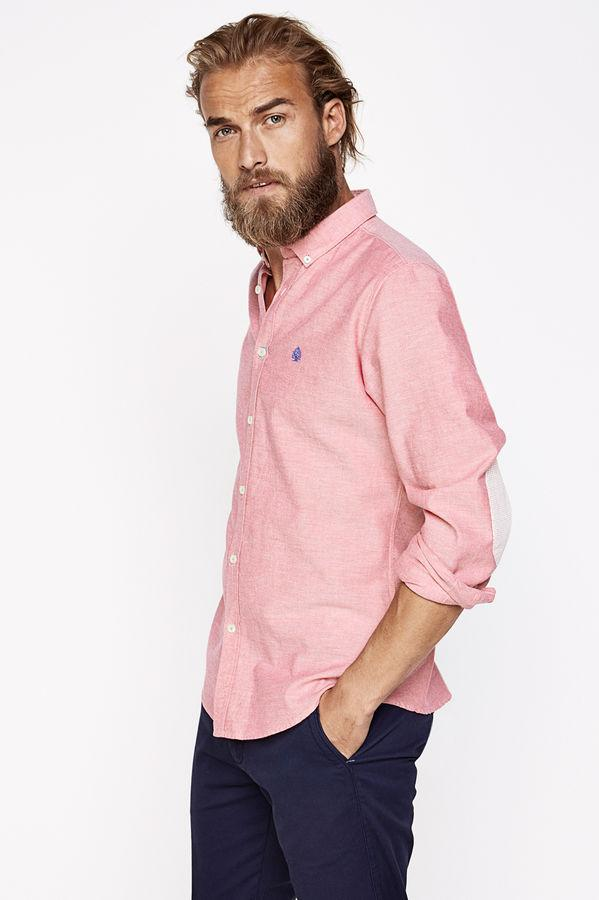teeshirt: (192, 188, 527, 747)
